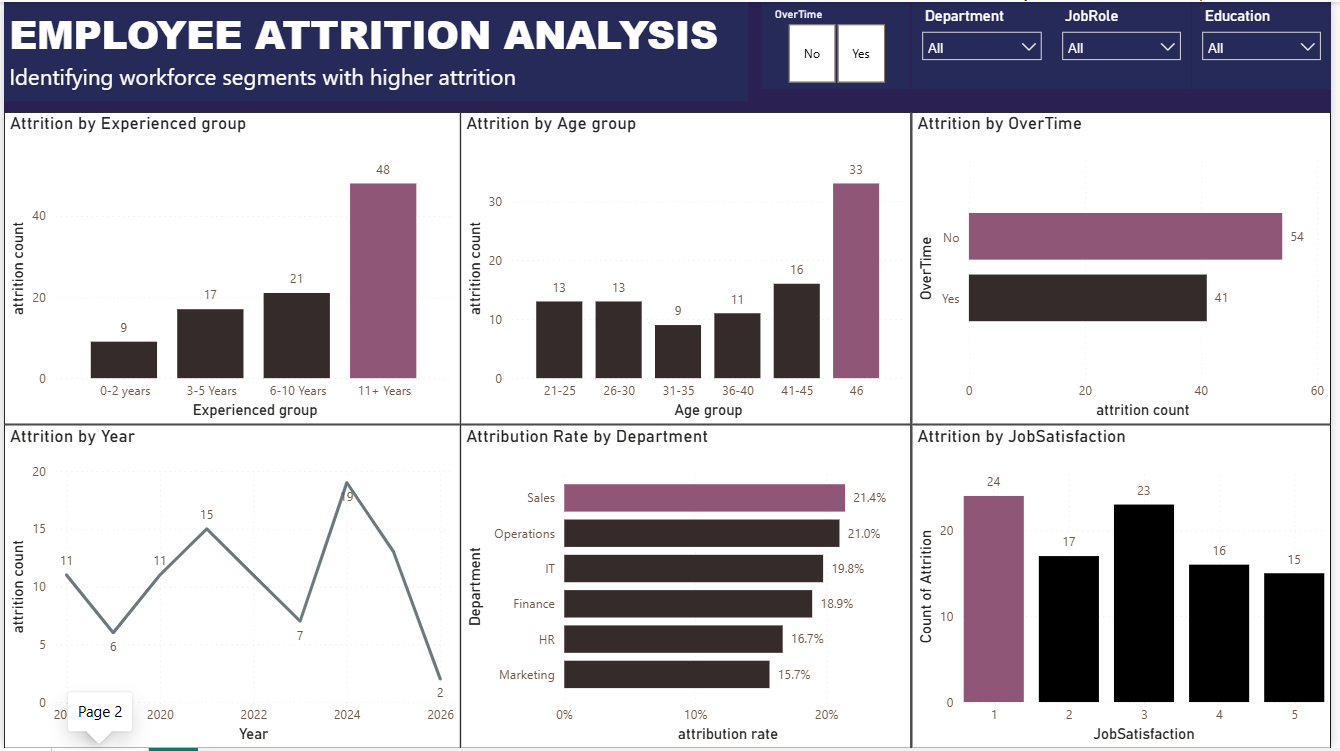

Layout of this report page (visuals, bound fields, positions):
{"tool":"powerbi","page":{"name":"Page 2","canvas":[1280,720],"ordinal":1},"visuals":[{"type":"lineChart","title":"Attrition by Year","fields":{"Category":["Sheet.HireDate.Variation.Date Hierarchy.Year"],"Y":["Sheet.attrition count"]},"box":[0,407.5,440.5,312.9],"z":0},{"type":"clusteredBarChart","title":"Attrition  by OverTime","fields":{"Category":["Sheet.OverTime"],"Y":["Sheet.attrition count"]},"box":[875.5,105.7,404.8,301.9],"z":1000},{"type":"columnChart","title":"Attrition by Age group","fields":{"Y":["Sheet.attrition count"],"Category":["Sheet.Age group"]},"box":[440.5,105.7,435,301.9],"z":2000},{"type":"columnChart","title":"Attrition by Experienced group","fields":{"Y":["Sheet.attrition count"],"Category":["Sheet.Experienced group"]},"box":[0,105.7,440.5,301.9],"z":3000},{"type":"slicer","fields":{"Values":["Sheet.Education","Sheet.Education"]},"box":[1145.8,0,134.5,83.7],"z":4000},{"type":"columnChart","title":"Attrition by JobSatisfaction","fields":{"Y":["CountNonNull(Sheet.Attrition)"],"Category":["Sheet.JobSatisfaction"]},"box":[875.5,407.5,404.8,312.9],"z":5000},{"type":"slicer","fields":{"Values":["Sheet.JobRole"]},"box":[1011.3,0,134.5,83.7],"z":9000},{"type":"clusteredBarChart","title":"Attribution Rate by Department","fields":{"Y":["Sheet.attribution rate"],"Category":["Sheet.Department"]},"box":[440.5,407.5,435,312.9],"z":10000},{"type":"slicer","fields":{"Values":["Sheet.OverTime"]},"box":[731.4,0,142.9,84.3],"z":11000},{"type":"slicer","fields":{"Values":["Sheet.Department"]},"box":[875.5,0,135.8,83.7],"z":12000},{"type":"textbox","box":[0,0,718.6,95.7],"z":13000}]}

Visuals, with their boxes in screenshot pixels (x1, y1, x2, y2), scaled from the page's 1280x720 canvas onto the 1340x751 screenshot:
"Attrition by Year" lineChart: crop(0, 425, 461, 750)
"Attrition  by OverTime" clusteredBarChart: crop(917, 110, 1339, 425)
"Attrition by Age group" columnChart: crop(461, 110, 917, 425)
"Attrition by Experienced group" columnChart: crop(0, 110, 461, 425)
slicer - Sheet.Education x Sheet.Education: crop(1200, 0, 1339, 87)
"Attrition by JobSatisfaction" columnChart: crop(917, 425, 1339, 750)
slicer - Sheet.JobRole: crop(1059, 0, 1200, 87)
"Attribution Rate by Department" clusteredBarChart: crop(461, 425, 917, 750)
slicer - Sheet.OverTime: crop(766, 0, 915, 88)
slicer - Sheet.Department: crop(917, 0, 1059, 87)
textbox: crop(0, 0, 752, 100)
